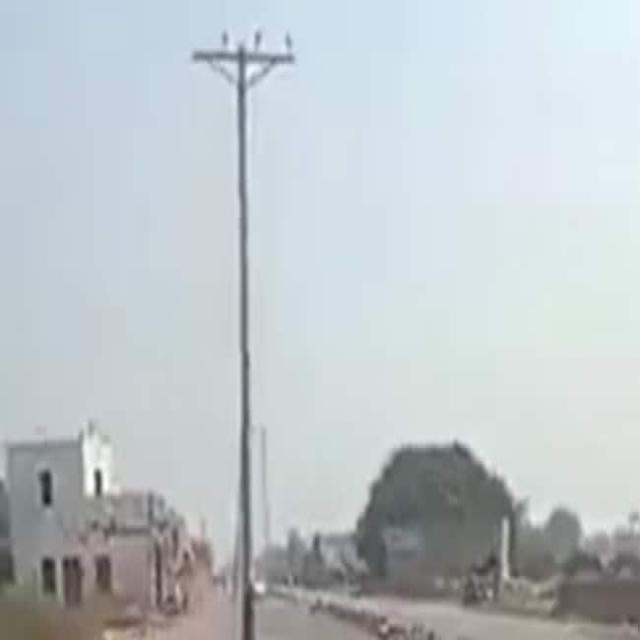light_pole: (191, 22, 295, 94)
